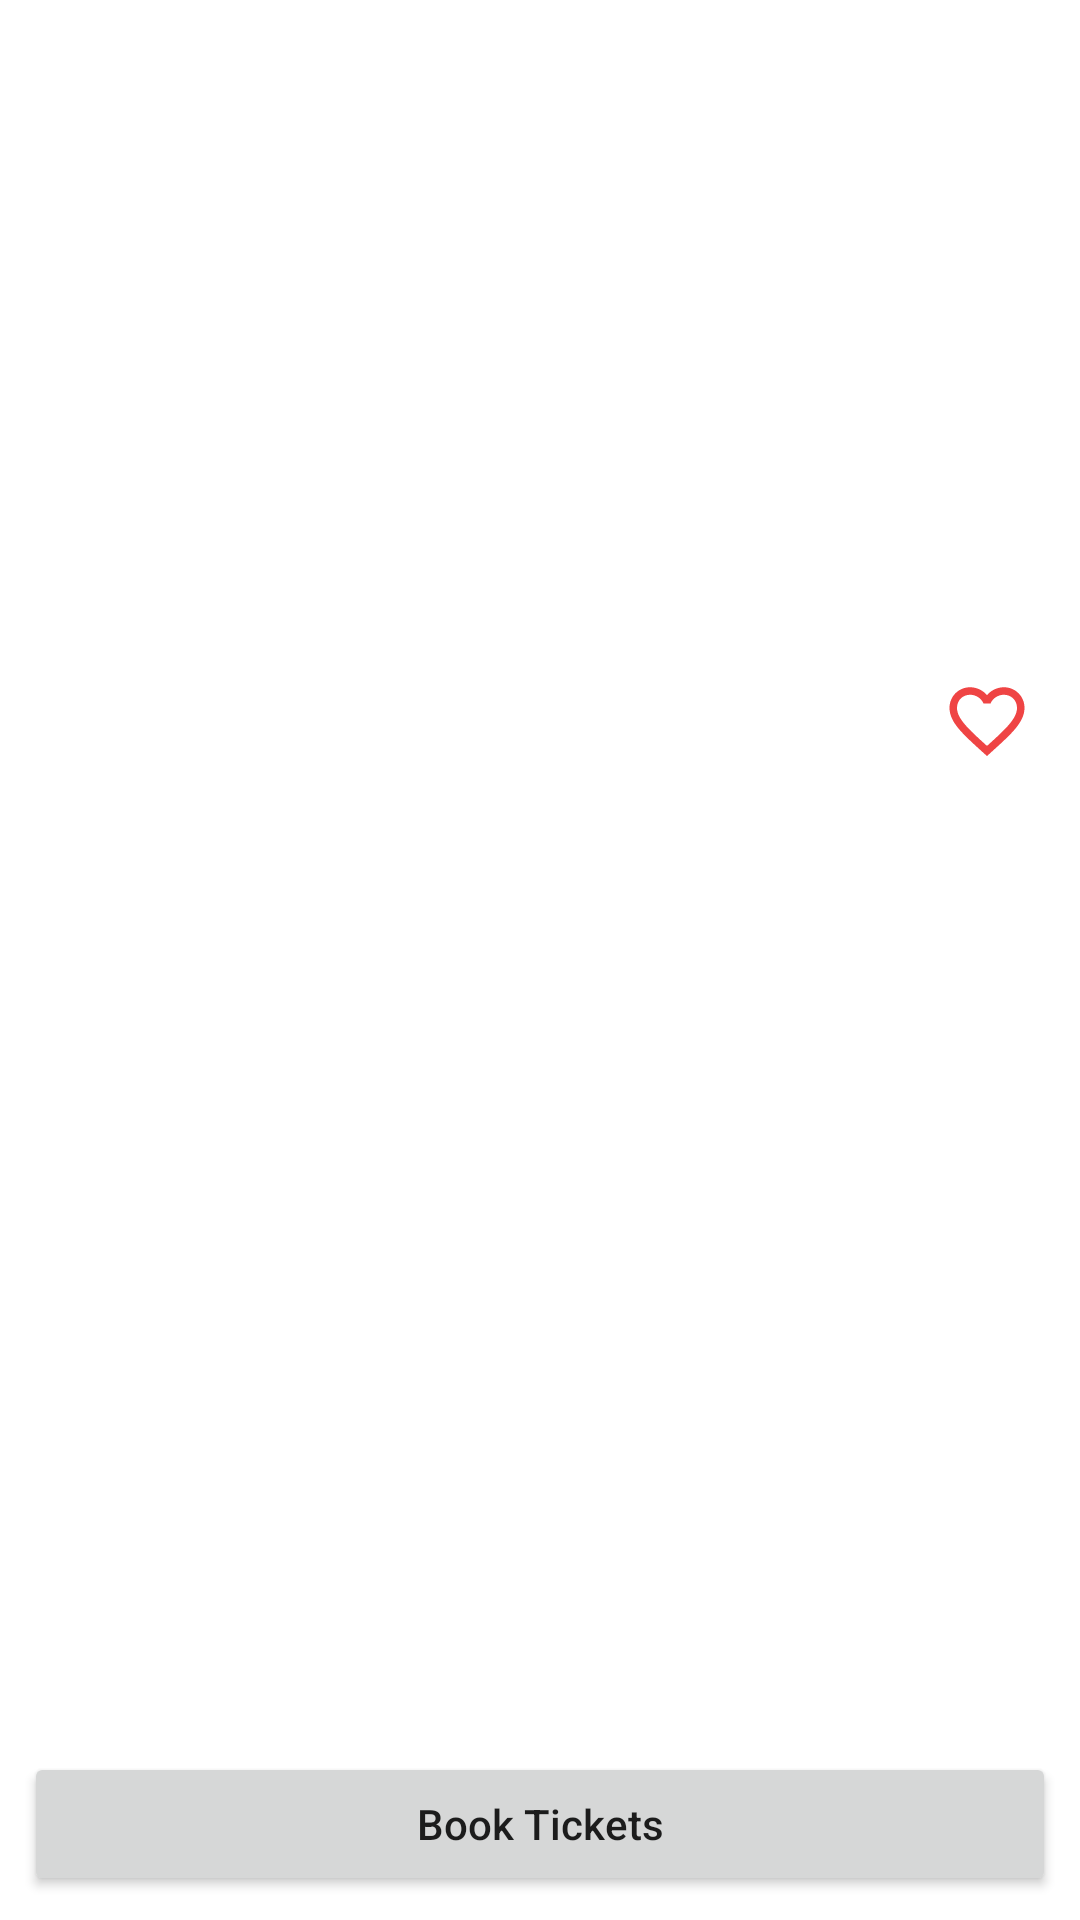

Icon click points for this 1080px x 1920px phone screenshot, format [x,y]:
fav unselect: [987,721]
